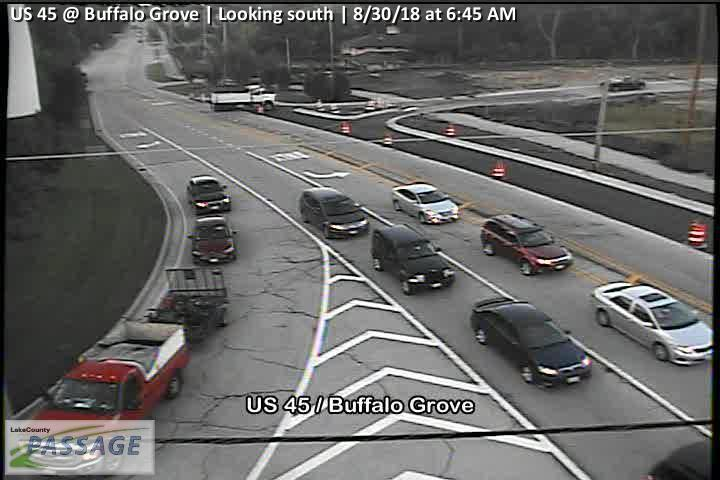SUV: (369, 221, 456, 295), (478, 211, 574, 276), (298, 186, 369, 239), (186, 176, 231, 214)
Sedan: (470, 296, 594, 390), (591, 279, 717, 367), (390, 180, 460, 225), (187, 217, 240, 264), (600, 73, 649, 94)
Truck: (23, 265, 229, 480), (209, 81, 281, 115)
